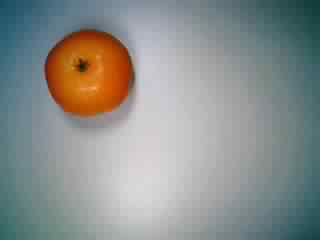orange: (40, 20, 135, 122)
